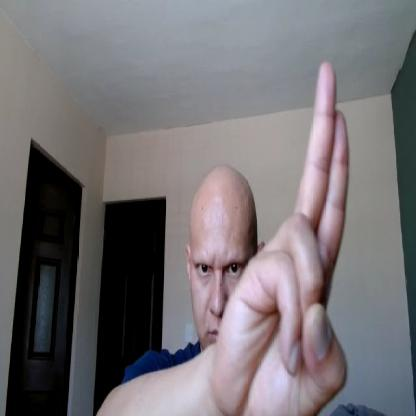U: (213, 59, 350, 415)
